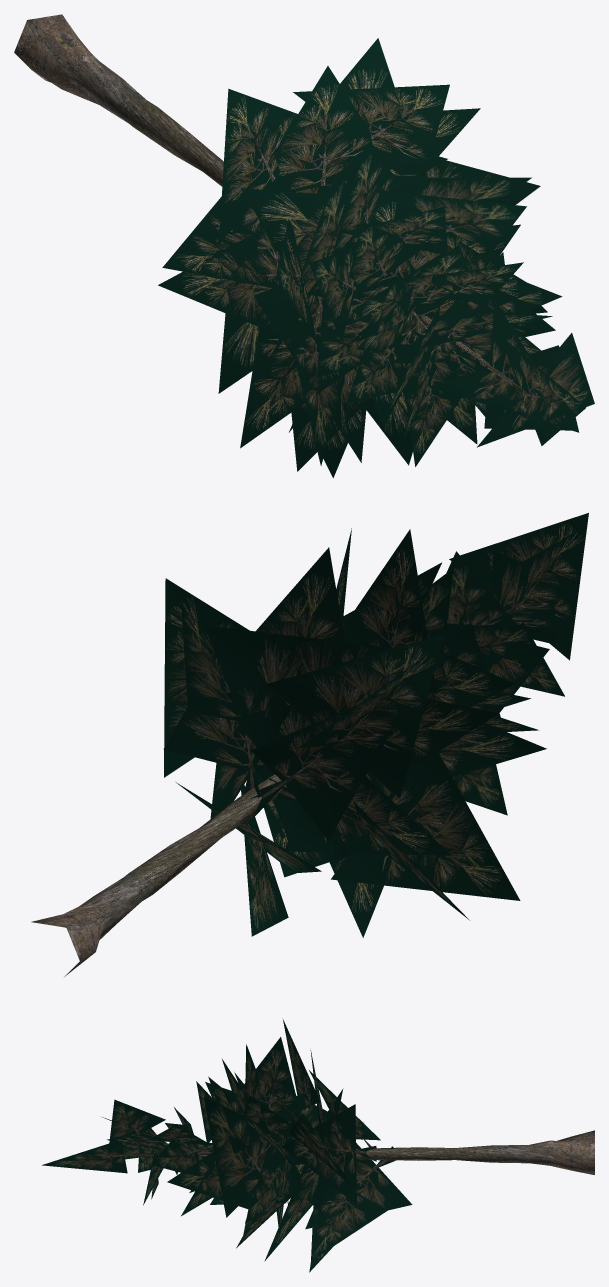
The model's file is tree_pine_sm_b.glb.
3 renders of one model, top to bottom at view 1: azimuth 30°, elevation 25°; view 2: azimuth 150°, elevation 25°; view 3: azimuth 270°, elevation 25°, orthographic. The views are drawn at different scales.
Bounding box in the file's own units: 178 × 177 × 436.
2 materials, 2 textured.
